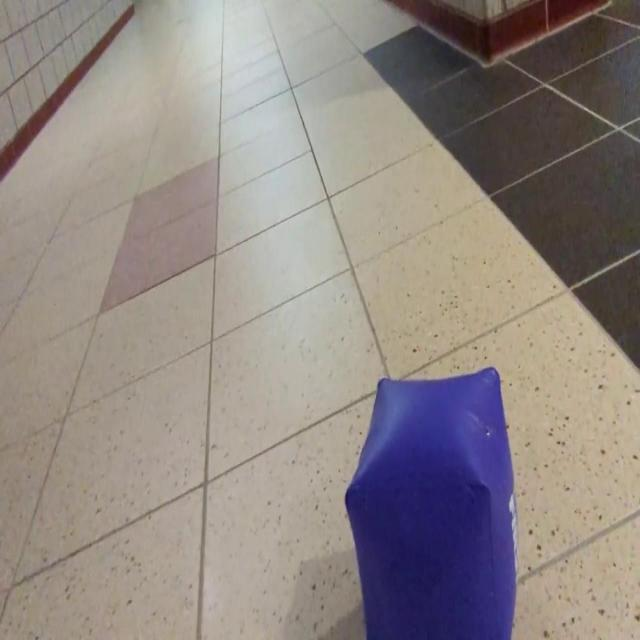frc_cube: (345, 368, 519, 640)
